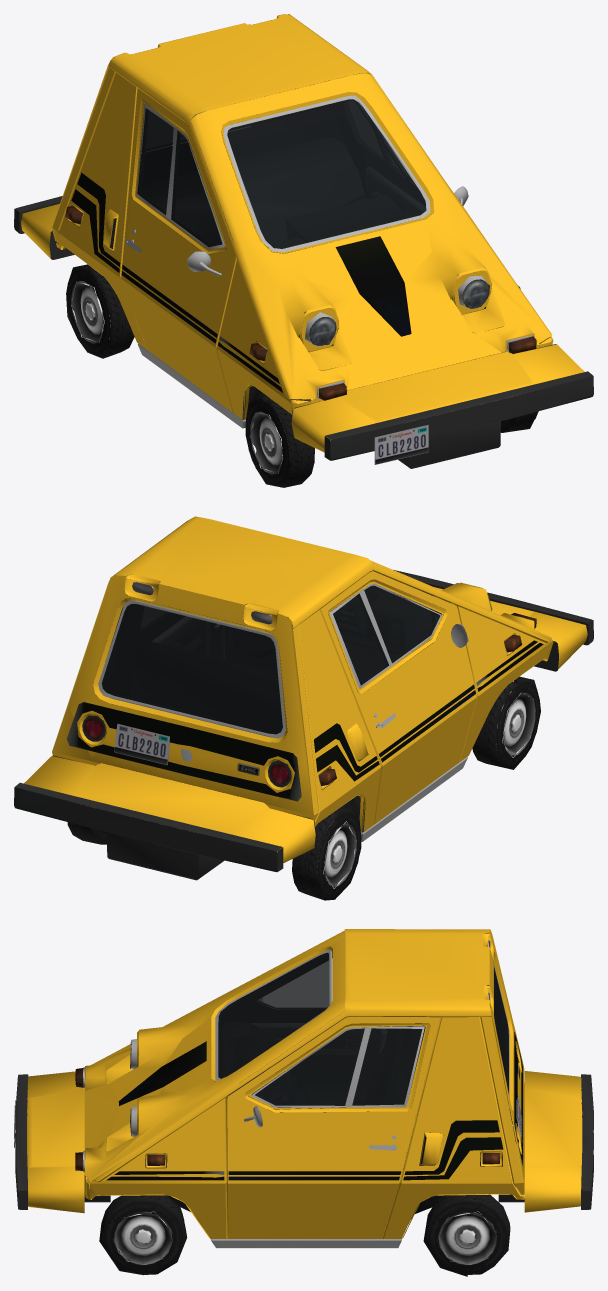
The model's file is colby_lod1.glb.
The picture shows the model from 3 angles, top to bottom: view 1: azimuth 30°, elevation 25°; view 2: azimuth 150°, elevation 25°; view 3: azimuth 270°, elevation 25°; orthographic projection. The views are drawn at different scales.
Visible parts, largest first — view 1: Colby80_body_SHTYCAR80_bodymat_0, Colby80_Interior_UCB_Interiors_2_0, Colby80_Windshield_UCB_Lights_and_Glass_Transperent_0, Colby80_Bottom_UCB_BOTTOM_0, Colby80_Bumper_Front_SHTYCAR80_bodymat_0, Colby80_Bumper_Front_Inner_UCB_BOTTOM_0, Colby80_Glass_Passenger_UCB_Lights_and_Glass_Transperent_0, wheel_FR, wheel_RR, Colby80_Vynil_Trim_UCB_BOTTOM_0, Colby80_Numberplate_front_Numberplates_Misk_U_0, Colby80_Headlights_UCB_Lights_and_Glass_0 (+4 smaller); view 2: Colby80_body_SHTYCAR80_bodymat_0, Colby80_Interior_UCB_Interiors_2_0, Colby80_Rear_window_UCB_Lights_and_Glass_Transperent_0, Colby80_Bumper_Rear_SHTYCAR80_bodymat_0, Colby80_Bumper_rear_Inner_UCB_BOTTOM_0, Colby80_Vynil_Trim_UCB_BOTTOM_0, Colby80_Bottom_UCB_BOTTOM_0, Colby80_Glass_Passenger_UCB_Lights_and_Glass_Transperent_0, wheel_RR, wheel_FR, Colby80_Bumper_Front_SHTYCAR80_bodymat_0, Colby80_Bumper_Front_Inner_UCB_BOTTOM_0 (+3 smaller); view 3: Colby80_body_SHTYCAR80_bodymat_0, Colby80_Interior_UCB_Interiors_2_0, Colby80_Glass_Driver_UCB_Lights_and_Glass_Transperent_0, Colby80_Bottom_UCB_BOTTOM_0, Colby80_Bumper_Rear_SHTYCAR80_bodymat_0, Colby80_Bumper_Front_SHTYCAR80_bodymat_0, Colby80_Windshield_UCB_Lights_and_Glass_Transperent_0, wheel_FL, wheel_RL, Colby80_Vynil_Trim_UCB_BOTTOM_0, Colby80_Bumper_rear_Inner_UCB_BOTTOM_0, Colby80_Bumper_Front_Inner_UCB_BOTTOM_0 (+1 smaller).
Boxes of the visible parts, <box> form: Colby80_body_SHTYCAR80_bodymat_0: <box>52,14,553,419</box>; Colby80_Interior_UCB_Interiors_2_0: <box>71,80,485,411</box>; Colby80_Windshield_UCB_Lights_and_Glass_Transperent_0: <box>227,99,426,248</box>; Colby80_Bottom_UCB_BOTTOM_0: <box>65,73,536,428</box>; Colby80_Bumper_Front_SHTYCAR80_bodymat_0: <box>291,344,584,452</box>; Colby80_Bumper_Front_Inner_UCB_BOTTOM_0: <box>291,344,593,468</box>; Colby80_Glass_Passenger_UCB_Lights_and_Glass_Transperent_0: <box>138,108,222,246</box>; wheel_FR: <box>245,395,314,487</box>; wheel_RR: <box>66,264,134,358</box>; Colby80_Vynil_Trim_UCB_BOTTOM_0: <box>71,172,282,392</box>; Colby80_Numberplate_front_Numberplates_Misk_U_0: <box>374,424,428,464</box>; Colby80_Headlights_UCB_Lights_and_Glass_0: <box>309,279,489,344</box>; Colby80_body_SHTYCAR80_bodymat_0: <box>52,516,553,832</box>; Colby80_Interior_UCB_Interiors_2_0: <box>85,586,443,822</box>; Colby80_Rear_window_UCB_Lights_and_Glass_Transperent_0: <box>101,604,282,734</box>; Colby80_Bumper_Rear_SHTYCAR80_bodymat_0: <box>24,756,315,862</box>; Colby80_Bumper_rear_Inner_UCB_BOTTOM_0: <box>14,755,315,880</box>; Colby80_Vynil_Trim_UCB_BOTTOM_0: <box>67,640,543,801</box>; Colby80_Bottom_UCB_BOTTOM_0: <box>82,582,536,841</box>; Colby80_Glass_Passenger_UCB_Lights_and_Glass_Transperent_0: <box>333,585,439,685</box>; wheel_RR: <box>292,807,361,900</box>; wheel_FR: <box>472,676,540,769</box>; Colby80_Bumper_Front_SHTYCAR80_bodymat_0: <box>434,587,587,669</box>; Colby80_Bumper_Front_Inner_UCB_BOTTOM_0: <box>394,570,593,671</box>; Colby80_body_SHTYCAR80_bodymat_0: <box>84,929,524,1238</box>; Colby80_Interior_UCB_Interiors_2_0: <box>204,949,511,1175</box>; Colby80_Glass_Driver_UCB_Lights_and_Glass_Transperent_0: <box>255,1028,422,1105</box>; Colby80_Bottom_UCB_BOTTOM_0: <box>75,940,520,1248</box>; Colby80_Bumper_Rear_SHTYCAR80_bodymat_0: <box>524,1071,582,1212</box>; Colby80_Bumper_Front_SHTYCAR80_bodymat_0: <box>27,1071,84,1213</box>; Colby80_Windshield_UCB_Lights_and_Glass_Transperent_0: <box>218,952,328,1078</box>; wheel_FL: <box>99,1195,187,1275</box>; wheel_RL: <box>423,1194,510,1276</box>; Colby80_Vynil_Trim_UCB_BOTTOM_0: <box>106,1032,522,1180</box>; Colby80_Bumper_rear_Inner_UCB_BOTTOM_0: <box>498,1074,593,1209</box>; Colby80_Bumper_Front_Inner_UCB_BOTTOM_0: <box>15,1074,110,1209</box>.
Bounding box in the file's own units: 2.12 × 2.05 × 4.2.
8 materials, 7 textured.
